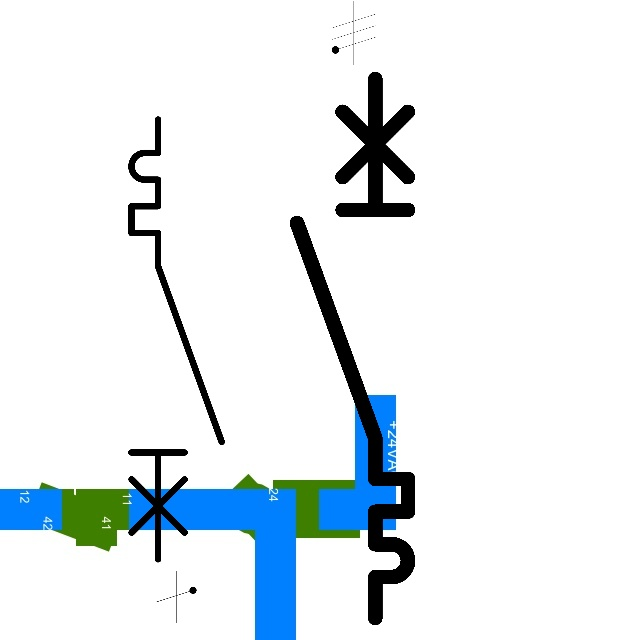interruptor_termomagnetico: (283, 65, 422, 632), (120, 108, 233, 571)
